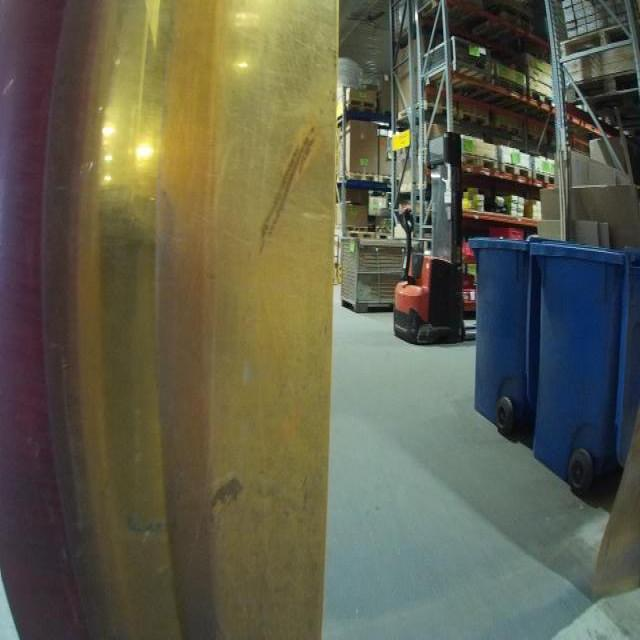pallet: (559, 21, 640, 63), (570, 69, 640, 109), (470, 11, 534, 46), (397, 99, 451, 121), (460, 152, 499, 169), (457, 108, 490, 127), (528, 89, 557, 107), (499, 162, 533, 177), (494, 121, 521, 135), (534, 171, 559, 186), (345, 171, 378, 182), (348, 105, 378, 115), (345, 232, 377, 240), (379, 173, 401, 183), (348, 100, 379, 107)
pallet_truck: (392, 123, 476, 348)
small_load_carrier: (485, 224, 526, 239)
stillage: (335, 230, 424, 313), (423, 32, 494, 87)
